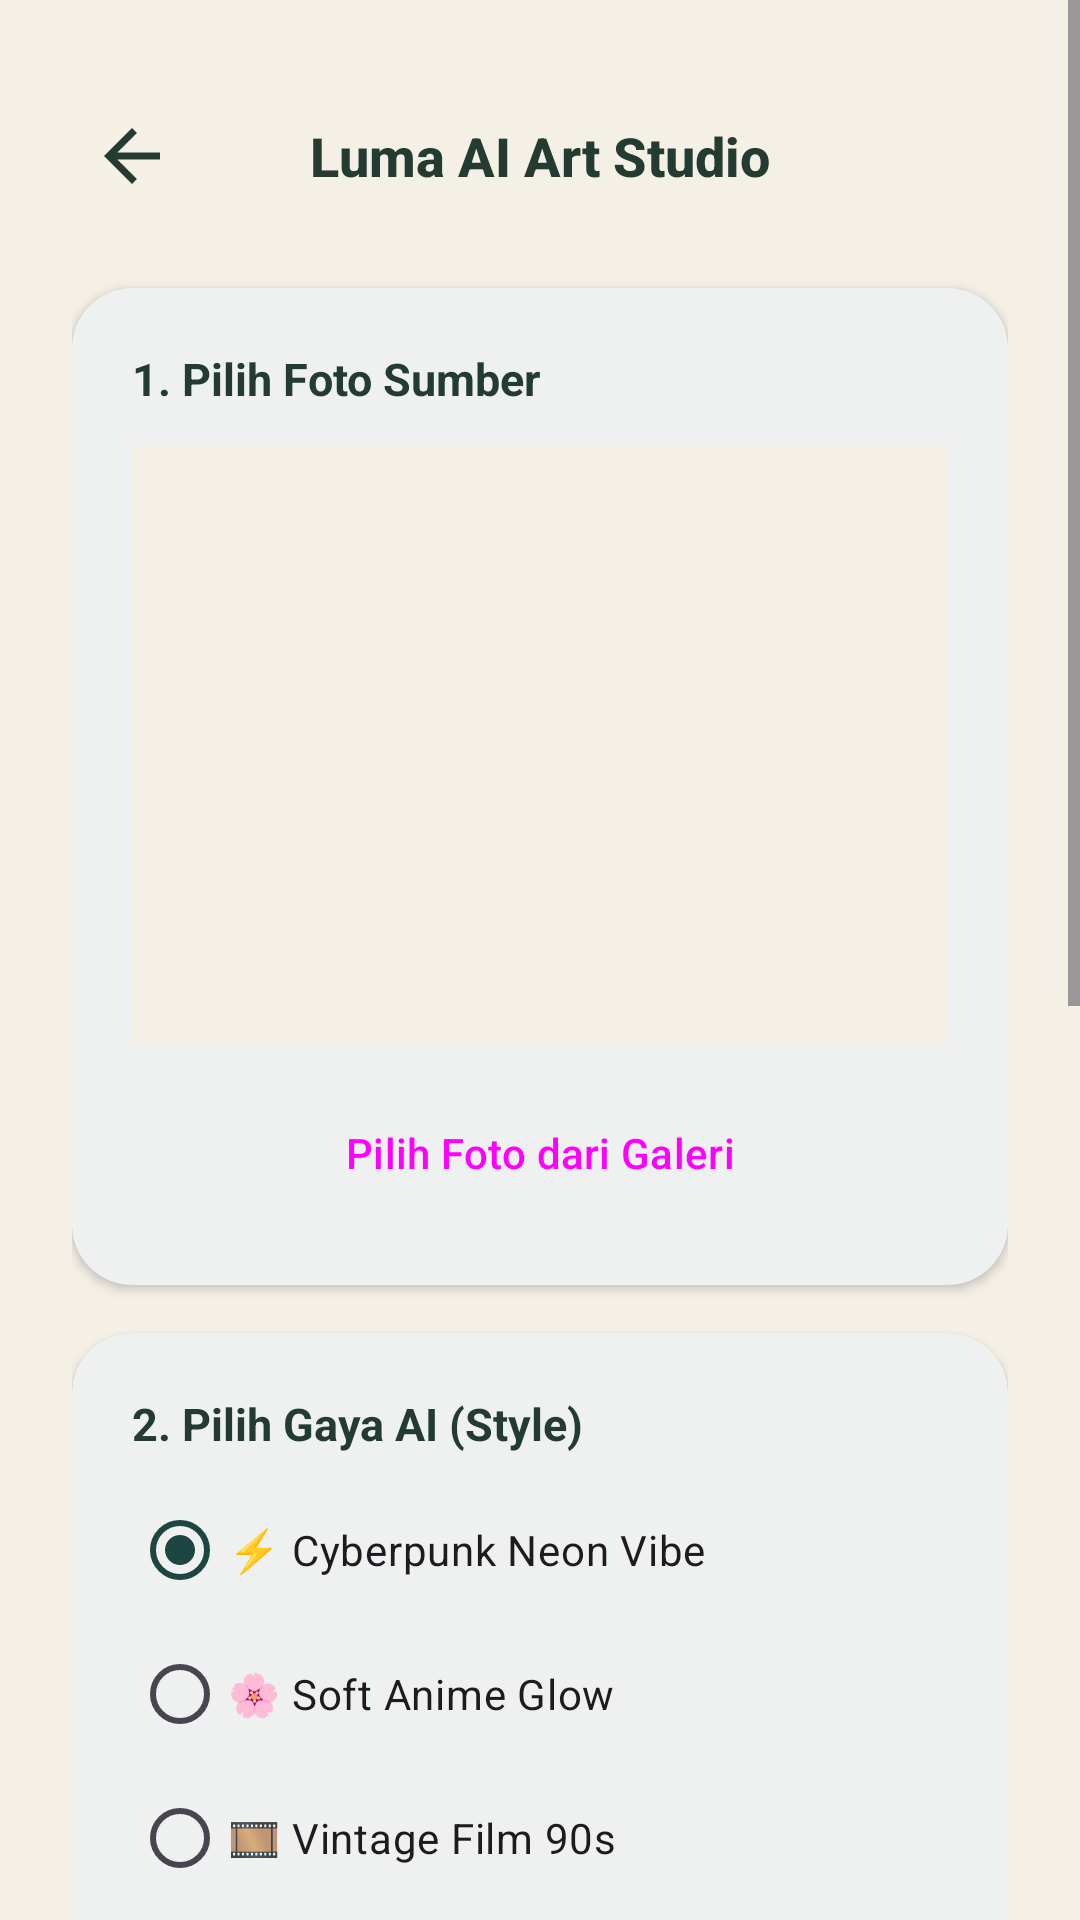

Screen size 1080×1920. Icon name, then its center in pixels as (x=x, y=y):
Kembali: (x=132, y=156)
